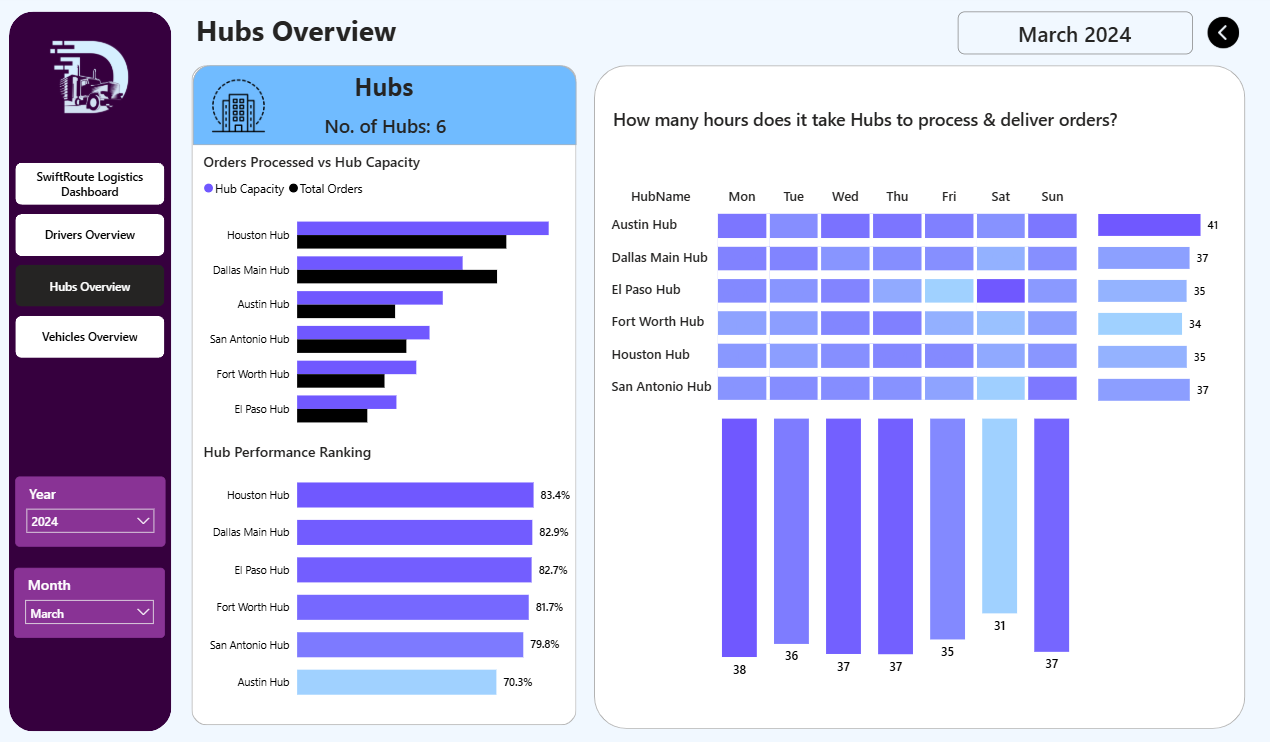

This screenshot's page, from the dashboard's own definition file:
{"tool":"powerbi","page":{"name":"Hubs Overview","canvas":[1450,850],"ordinal":2},"visuals":[{"type":"shape","box":[11.4,14.2,185.2,820.4],"z":0},{"type":"textbox","box":[219.3,8.5,276.3,54.1],"z":1000},{"type":"slicer","fields":{"Values":["Date Table.Year"]},"box":[18.5,544.1,170.9,79.8],"z":2000},{"type":"slicer","fields":{"Values":["Date Table.MONTH"]},"box":[17.1,648,172.3,79.8],"z":3000},{"type":"cardVisual","fields":{"Data":["Orders.Year Month Title"]},"box":[1092.4,14.2,267.8,48.4],"z":4000},{"type":"shape","box":[678,75.5,742,756.3],"z":5000},{"type":"image","box":[1375.8,14.2,38.5,48.4],"z":6000},{"type":"shape","box":[219.3,75.5,438.7,752],"z":7000},{"type":"shape","box":[220.8,75.5,437.3,91.2],"z":8000},{"type":"textbox","box":[381.7,75.5,113.9,52.7],"z":9000},{"type":"cardVisual","fields":{"Data":["Hubs.No.of Hubs"]},"box":[337.6,121.1,205.1,42.7],"z":10000},{"type":"clusteredBarChart","title":"Orders Processed vs Hub Capacity","fields":{"Category":["Hubs.HubName"],"Y":["Sum(Hubs.Hub Capacity)","Orders.Total Orders"]},"box":[227.9,173.8,418.7,330.4],"z":11000},{"type":"barChart","title":"Hub Performance Ranking","fields":{"Category":["Hubs.HubName"],"Y":["Orders.On Time Delivery Rate"]},"box":[227.9,504.2,440.1,311.9],"z":12000},{"type":"pivotTable","fields":{"Rows":["Hubs.HubName"],"Columns":["Date Table.Day"],"Values":["Orders.Average Delivery Time (Hrs)"]},"box":[687.9,207.9,559.7,262.1],"z":13000},{"type":"columnChart","fields":{"Category":["Date Table.Day"],"Y":["Orders.Average Delivery Time (Hrs)"]},"box":[819,464.3,407.3,317.6],"z":14000},{"type":"clusteredBarChart","fields":{"Category":["Hubs.HubName"],"Y":["Orders.Average Delivery Time (Hrs)"]},"box":[1247.7,232.2,166.6,232.2],"z":15000},{"type":"cardVisual","fields":{"Data":["Hubs.Hub Title"]},"box":[678,102.5,618.1,64.1],"z":16000},{"type":"pageNavigator","box":[18.5,186.6,170.9,222],"z":17000},{"type":"image","box":[39.9,38.5,128.2,108.2],"z":18000},{"type":"image","box":[239.3,89.7,66.9,64.1],"z":19000}]}

Visuals, with their boxes in screenshot pixels (x1, y1, x2, y2), scaled from the page's 1450x850 canvas onto the 1270x742 screenshot:
shape: 10 12 172 729
textbox: 192 7 434 55
slicer - Date Table.Year: 16 475 166 545
slicer - Date Table.MONTH: 15 566 166 635
cardVisual - Orders.Year Month Title: 957 12 1191 55
shape: 594 66 1244 726
image: 1205 12 1239 55
shape: 192 66 576 722
shape: 193 66 576 146
textbox: 334 66 434 112
cardVisual - Hubs.No.of Hubs: 296 106 475 143
"Orders Processed vs Hub Capacity" clusteredBarChart: 200 152 566 440
"Hub Performance Ranking" barChart: 200 440 585 712
pivotTable - Hubs.HubName x Date Table.Day: 603 181 1093 410
columnChart - Date Table.Day x Orders.Average Delivery Time (Hrs): 717 405 1074 683
clusteredBarChart - Hubs.HubName x Orders.Average Delivery Time (Hrs): 1093 203 1239 405
cardVisual - Hubs.Hub Title: 594 89 1135 145
pageNavigator: 16 163 166 357
image: 35 34 147 128
image: 210 78 268 134
